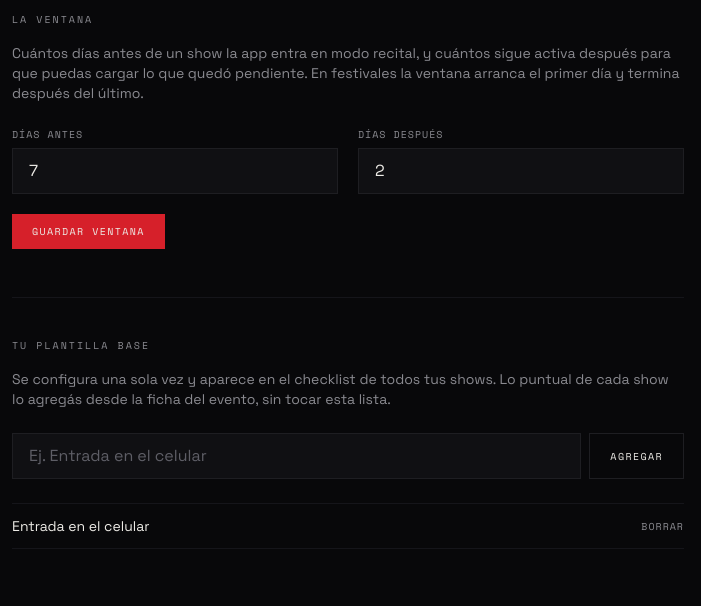
Scenario: ShowModeSettingsForm — la ventana › muestra el error de la action sin decir que guardó
Click the button "Guardar ventana": {"x": 88, "y": 232} [12,214,165,249]
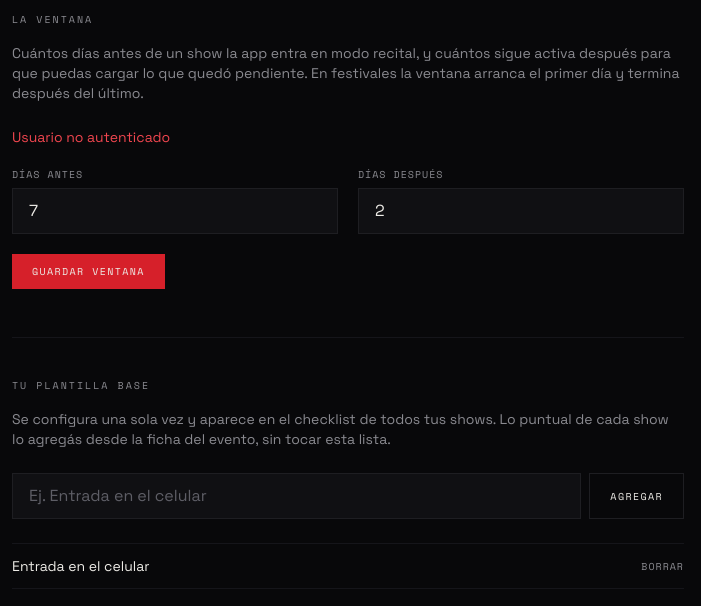
Expected: the message reads "Usuario no autenticado", [12,128,170,146]
